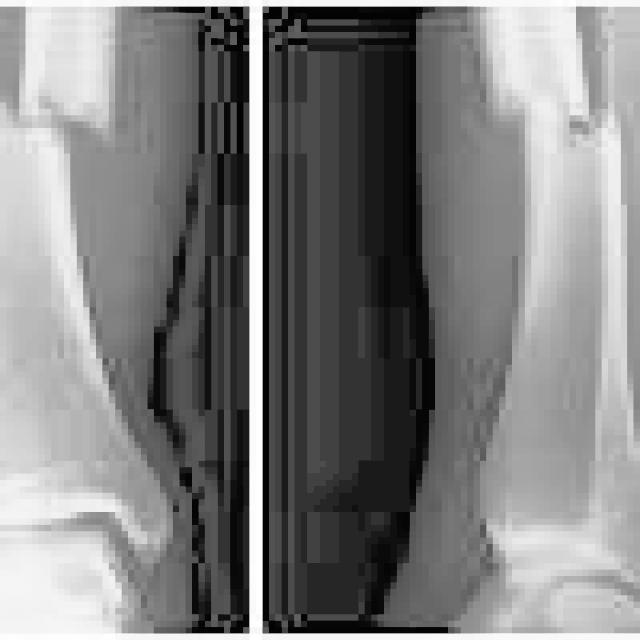Comminuted Fracture: (500, 75, 639, 183), (6, 69, 124, 159)
